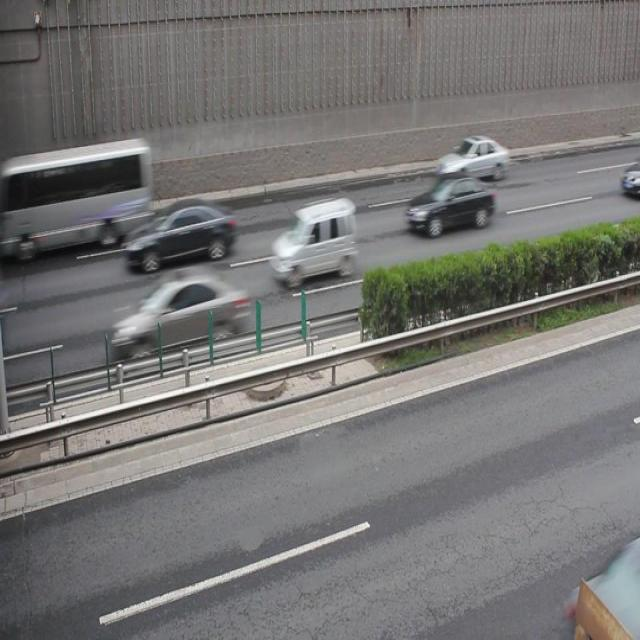car: (114, 271, 248, 360), (126, 196, 236, 270), (404, 174, 495, 236), (439, 133, 506, 187)
truck: (270, 199, 358, 286)
van: (13, 140, 152, 253)
